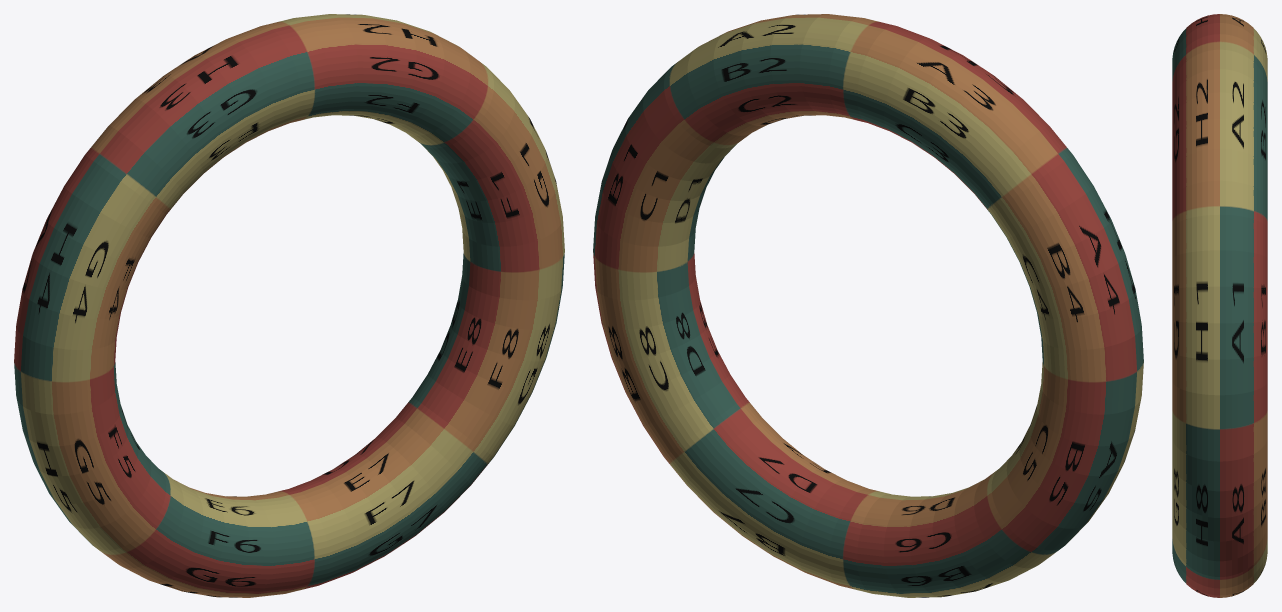
The model's file is texture_torus_R27_r13.glb.
3 renders of one model, left to right at view 1: azimuth 30°, elevation 25°; view 2: azimuth 150°, elevation 25°; view 3: azimuth 270°, elevation 25°, orthographic. The views are drawn at different scales.
Visible parts, largest first — view 1: world; view 2: world; view 3: world.
Boxes of the visible parts, box(x1,y1,x2,y2) form: world: box(14, 14, 564, 597); world: box(593, 14, 1143, 597); world: box(1172, 14, 1267, 597).
Bounding box in the file's own units: 33.47 × 33.4 × 5.46.
Materials: 1 (1 with a texture image).
